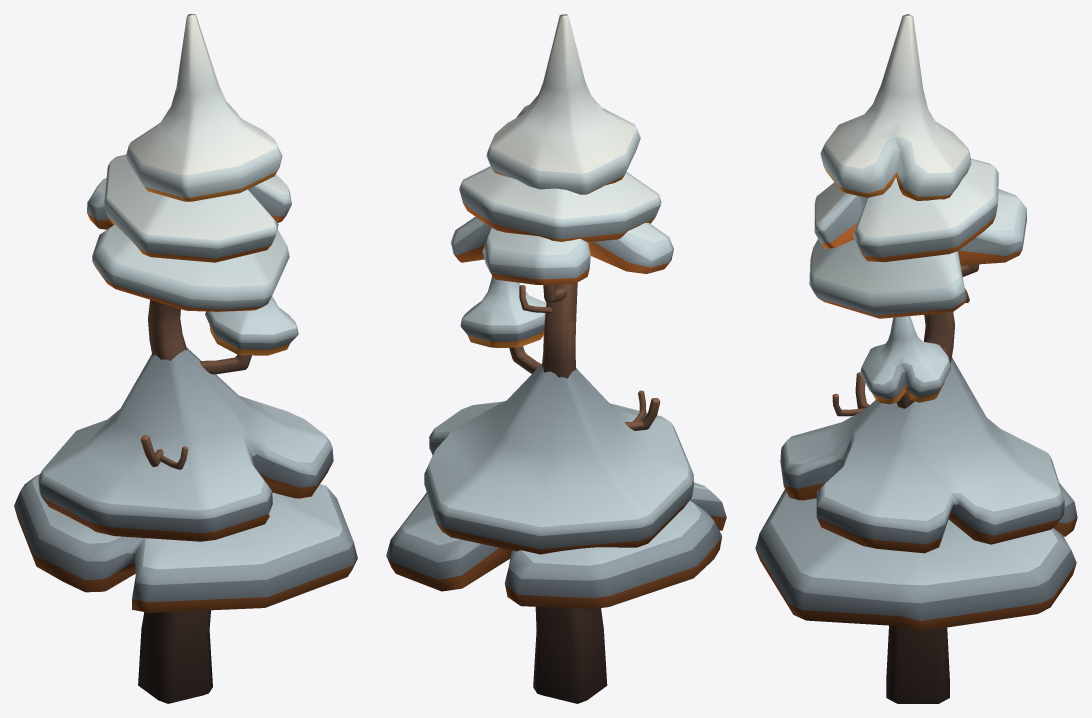
Rendered from pine_tree_col2_05_snow.fbx.
The picture shows the model from 3 angles, left to right: view 1: azimuth 30°, elevation 25°; view 2: azimuth 150°, elevation 25°; view 3: azimuth 270°, elevation 25°; orthographic projection. The views are drawn at different scales.
Parts seen in each view (by area): view 1: pine_tree_col2_05_snow; view 2: pine_tree_col2_05_snow; view 3: pine_tree_col2_05_snow.
Part boxes in pixels (x1=…): pine_tree_col2_05_snow: x1=14, y1=14, x2=357, y2=703; pine_tree_col2_05_snow: x1=386, y1=14, x2=726, y2=703; pine_tree_col2_05_snow: x1=755, y1=14, x2=1077, y2=703.
Bounding box in the file's own units: 472 × 1072 × 457.
1 material, 1 textured.
